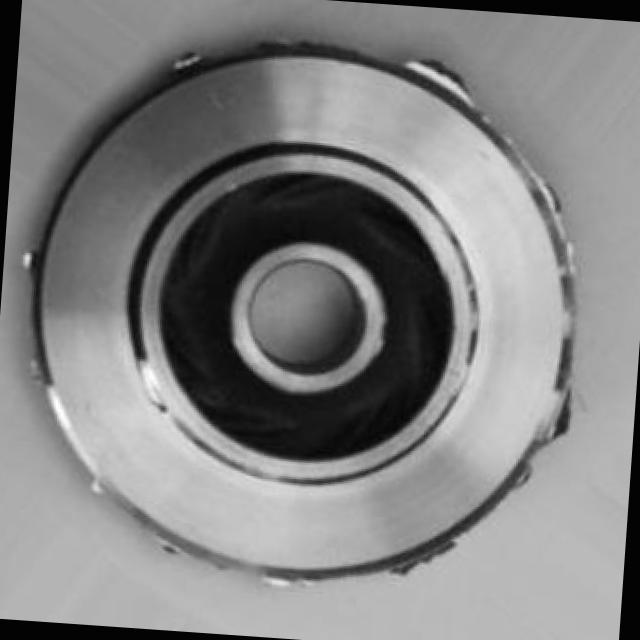Defect: (406, 48, 480, 104)
